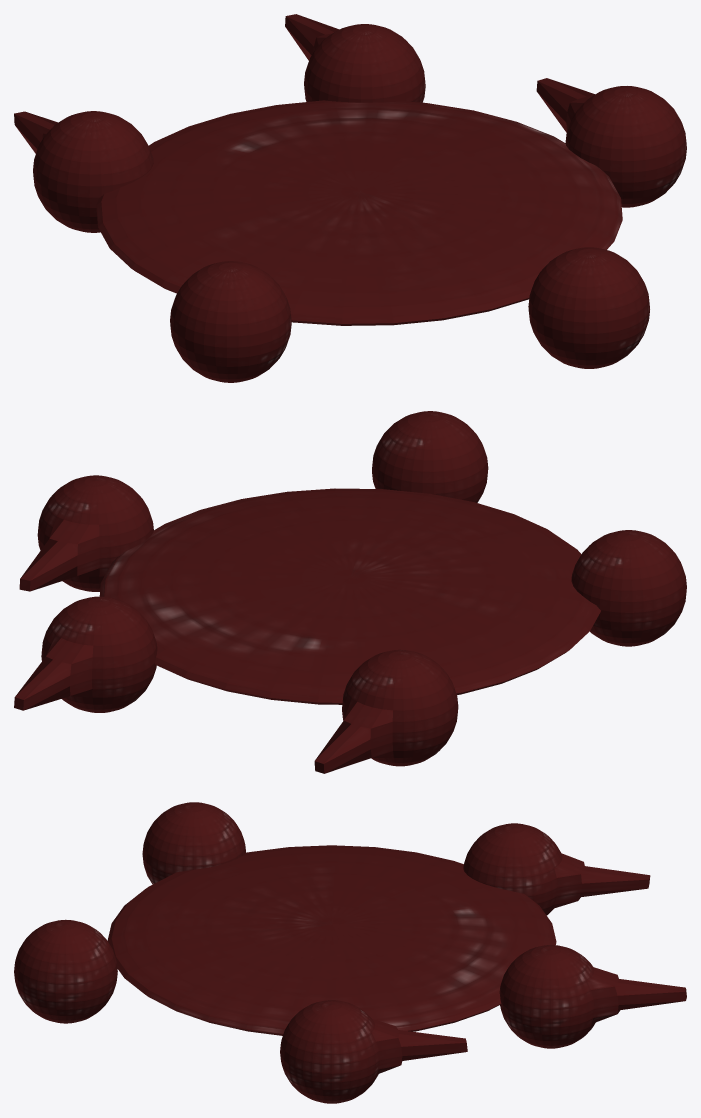
Rendered from enemyBullet.obj.
3 renders of one model, top to bottom at view 1: azimuth 30°, elevation 25°; view 2: azimuth 150°, elevation 25°; view 3: azimuth 270°, elevation 25°, orthographic. The views are drawn at different scales.
Parts seen in each view (by area): view 1: 球.005; view 2: 球.005; view 3: 球.005.
Part boxes in pixels (box(x1,y1,x2,y2)): 球.005: box(14, 14, 686, 382); 球.005: box(14, 411, 686, 773); 球.005: box(14, 802, 686, 1103).
Size of the model in its own units: 0.5823 by 0.1058 by 0.6851.
Materials: 1 (1 with a texture image).
